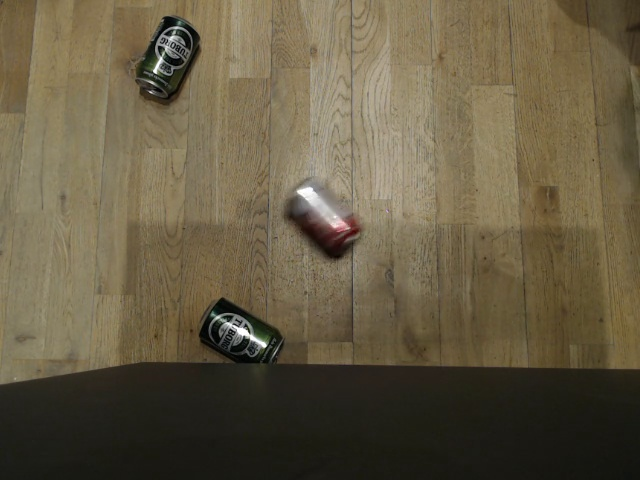beer: (193, 294, 286, 368), (133, 14, 204, 102)
cola: (280, 174, 363, 262)
